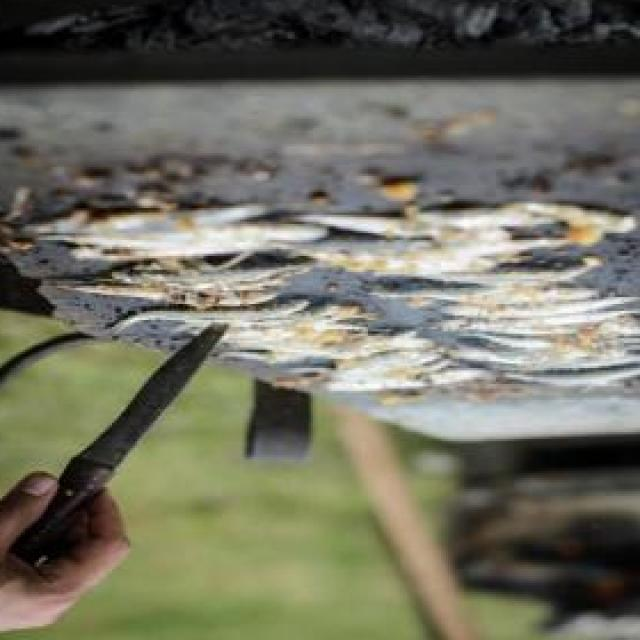knife: (6, 320, 233, 562)
